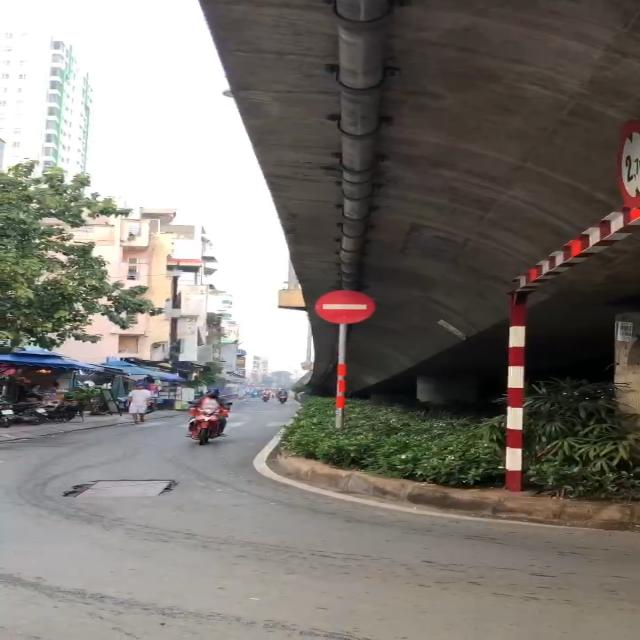Bien bao cam di nguoc chieu: (312, 288, 381, 329)
